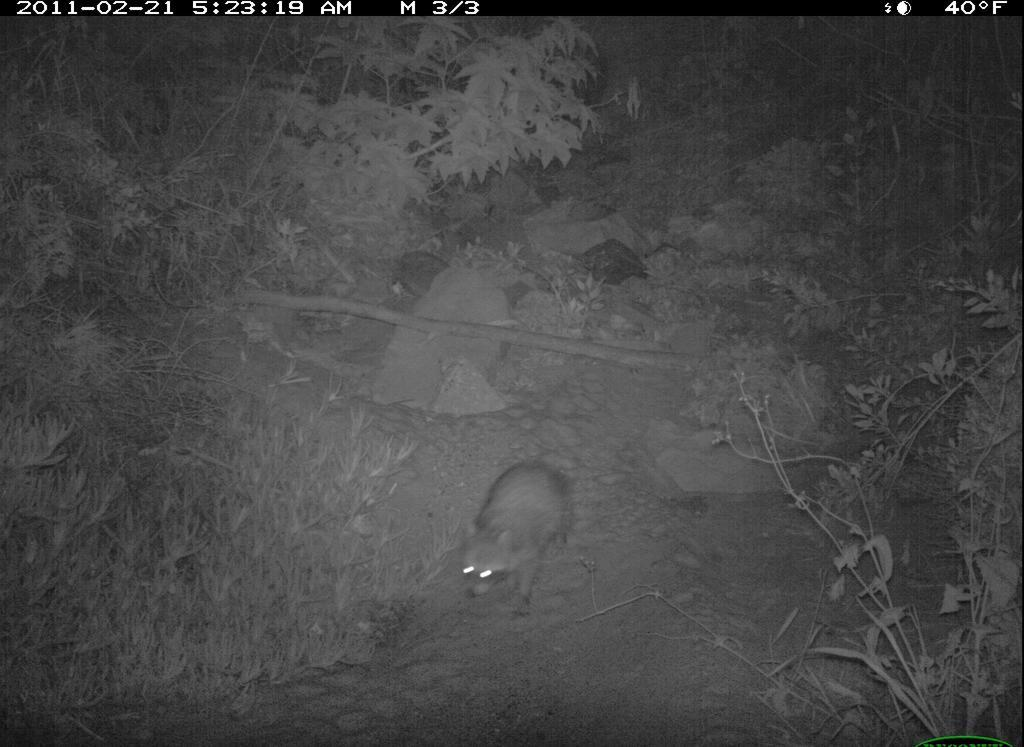raccoon: (446, 450, 585, 625)
